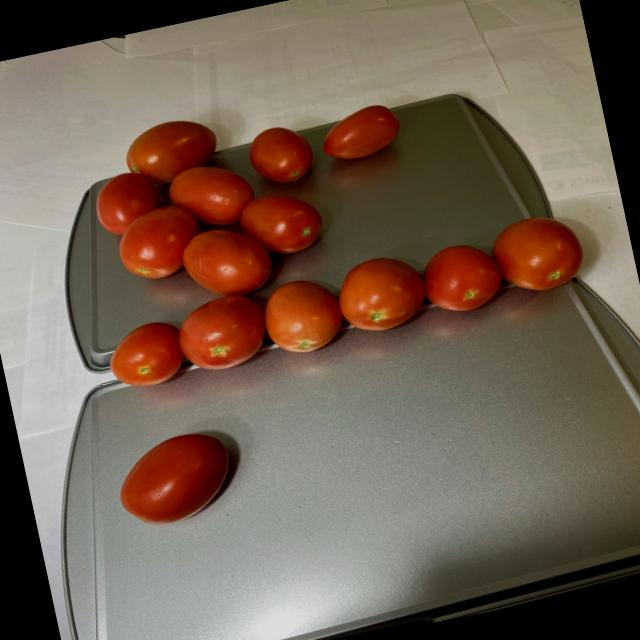tomato: (47, 43, 592, 394), (105, 424, 239, 532)
